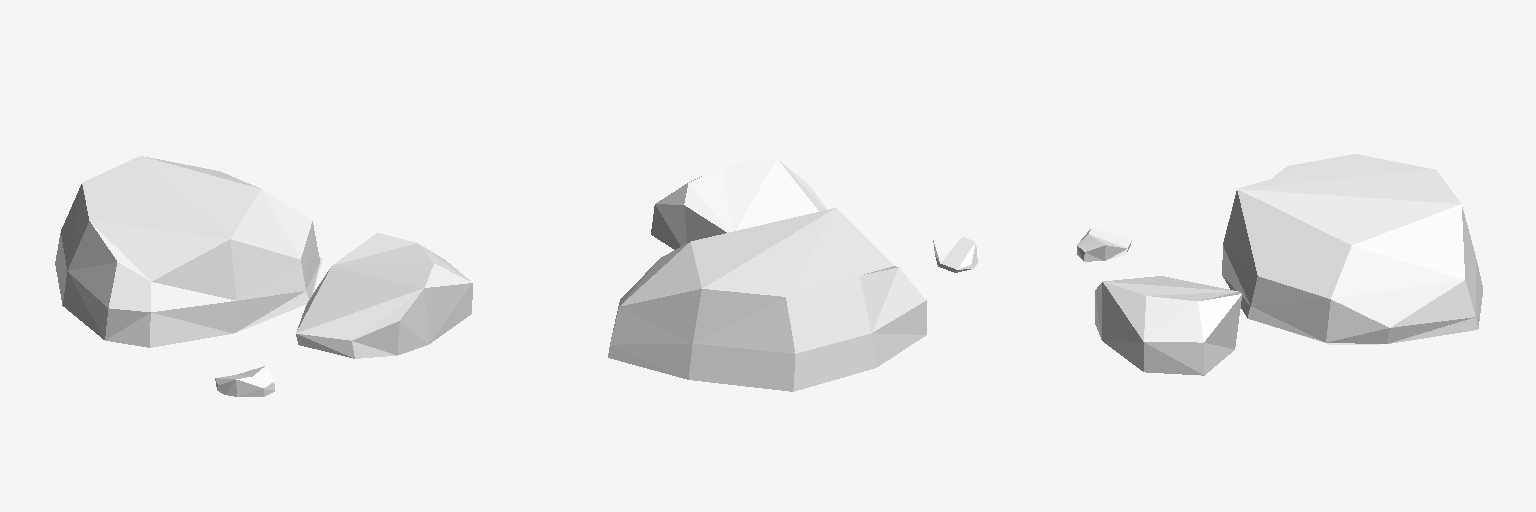
The model's file is stones_01.obj.
The picture shows the model from 3 angles: view 1: azimuth 30°, elevation 25°; view 2: azimuth 150°, elevation 25°; view 3: azimuth 270°, elevation 25°; orthographic projection.
Bounding box in the file's own units: 0.9877 × 0.2685 × 1.12.